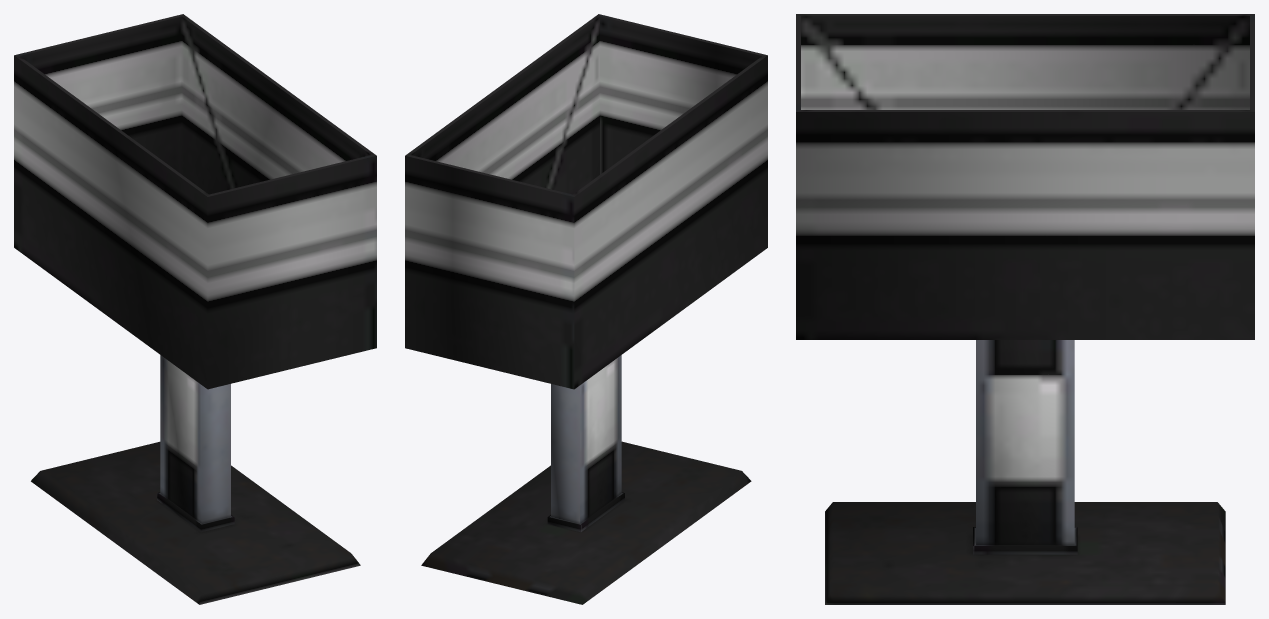
The model's file is Lamp03Table.FBX.
The picture shows the model from 3 angles, left to right: view 1: azimuth 30°, elevation 25°; view 2: azimuth 150°, elevation 25°; view 3: azimuth 270°, elevation 25°; orthographic projection. The views are drawn at different scales.
Visible parts, largest first — view 1: Lamp03Table; view 2: Lamp03Table; view 3: Lamp03Table.
Boxes of the visible parts, <box> form: Lamp03Table: <box>14,14,376,604</box>; Lamp03Table: <box>405,14,767,604</box>; Lamp03Table: <box>796,14,1254,604</box>.
Bounding box in the file's own units: 0.2543 × 0.6 × 0.504.
